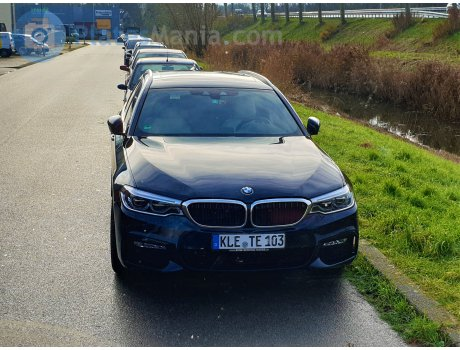License Plates: (220, 233, 282, 244)
